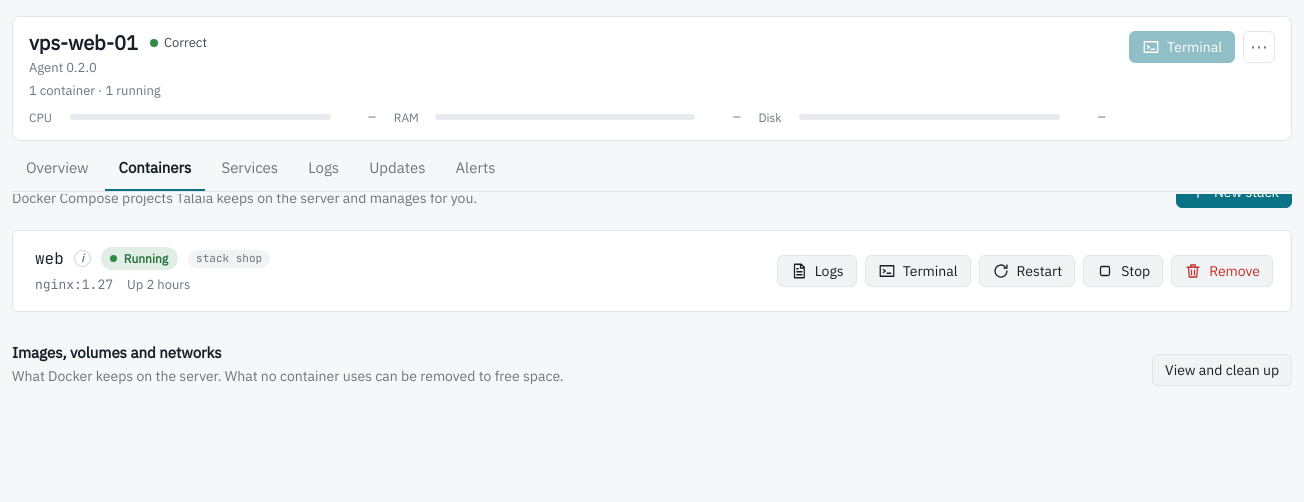
Test: ServerScreen › runs an action as a job, follows it and reloads the list
Click the button "Restart" at (1027, 271), box [978,255,1075,287]
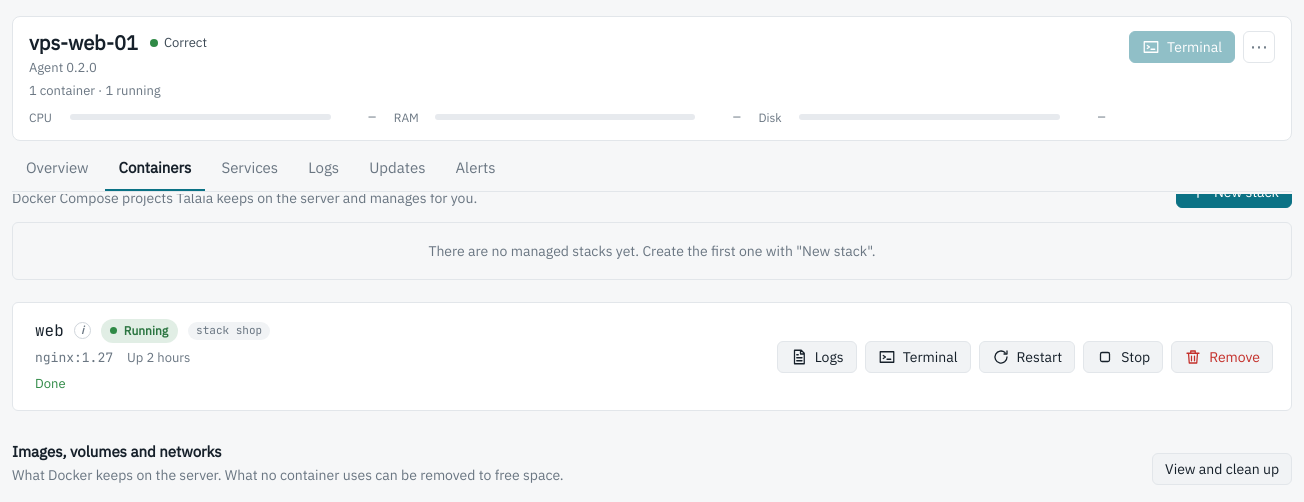
Now the text "Done" is shown, box [35,375,66,392]
